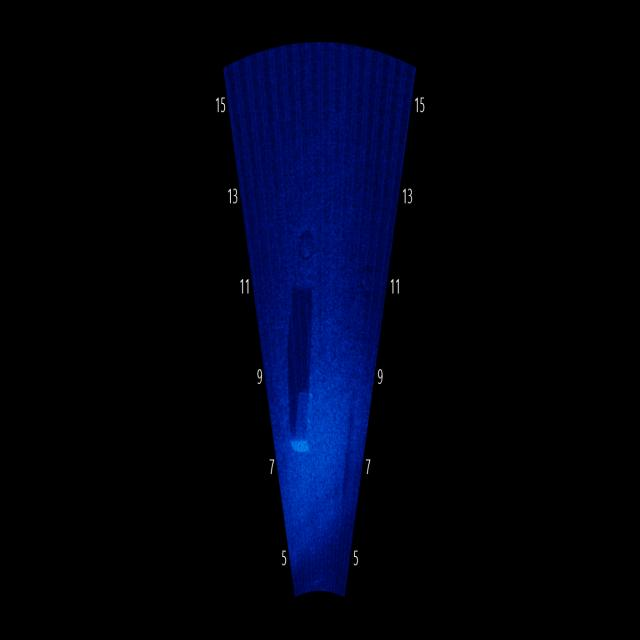square: (279, 368, 325, 462)
